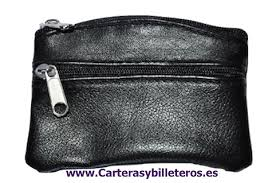monedero: (25, 17, 253, 172)
